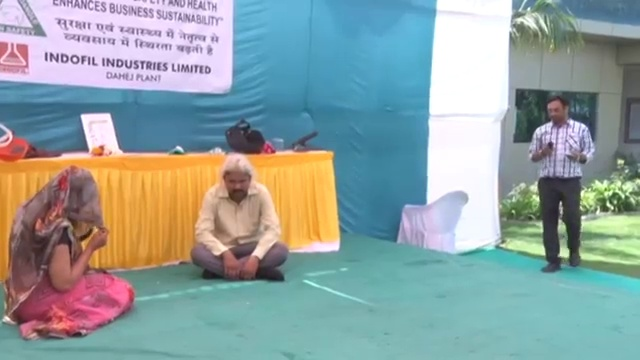helmet_off: (53, 166, 103, 220), (222, 155, 250, 196), (546, 95, 568, 125)
person: (1, 166, 135, 342), (191, 153, 288, 283), (527, 95, 597, 273)
